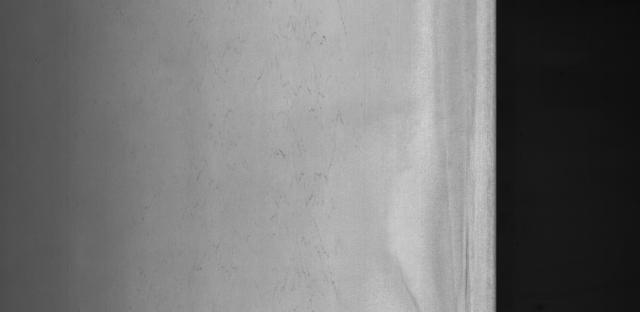silk_spot: (202, 9, 357, 312)
